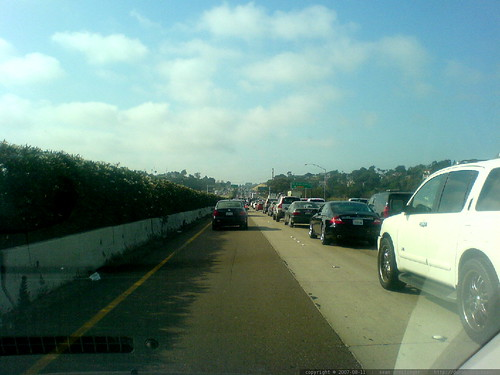car: (370, 161, 500, 353), (302, 195, 383, 245), (210, 198, 250, 234), (285, 196, 318, 227)
sky: (1, 1, 498, 152)
street: (65, 209, 454, 375)
